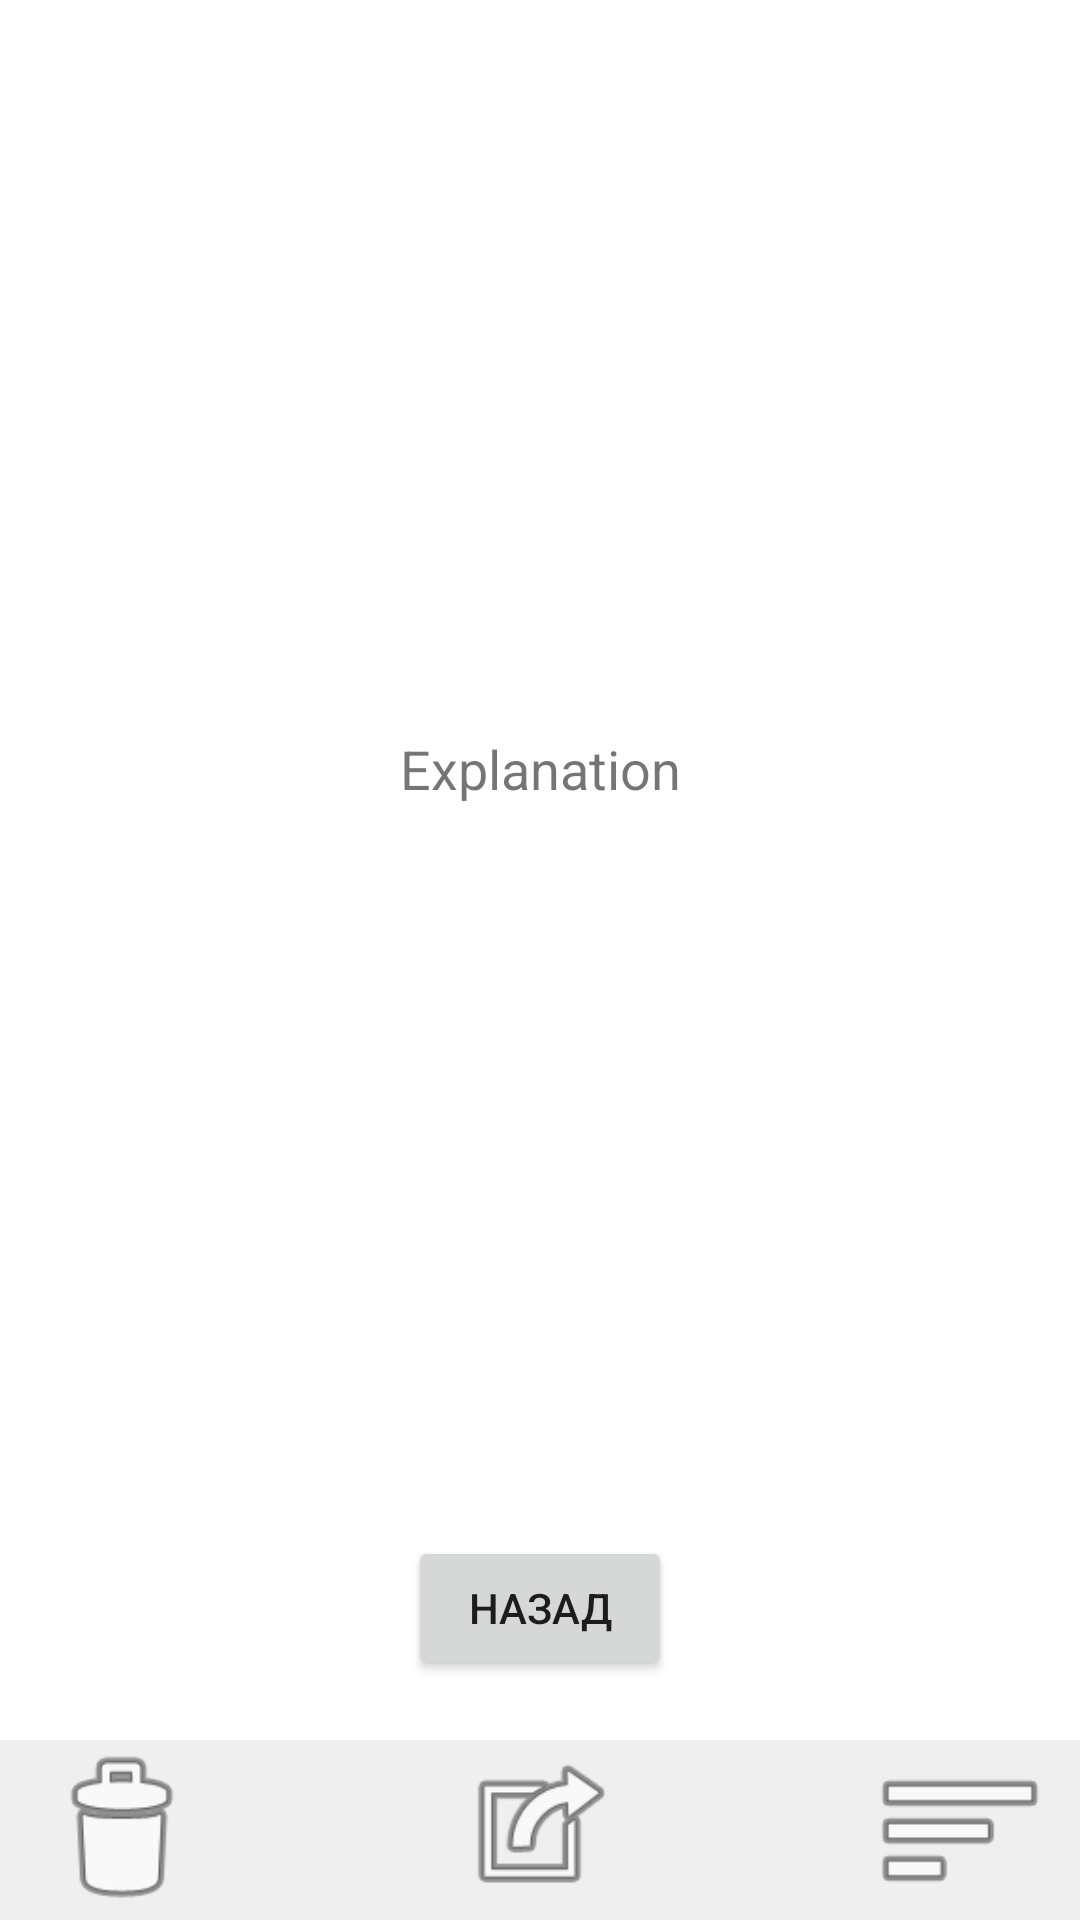

Named icons in this screenshot (1080x1920) and their centers, (x=x, y=y):
set as: (x=541, y=1824)
